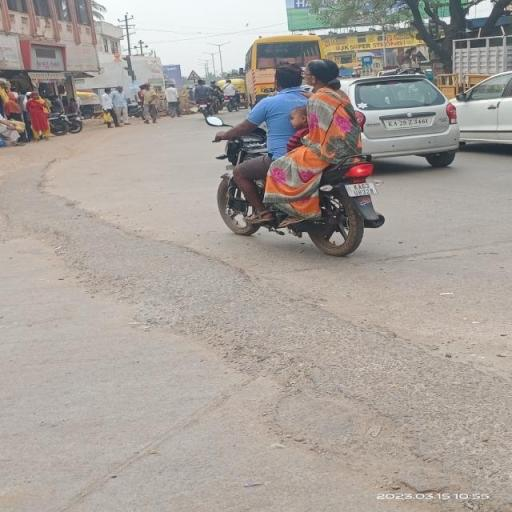bike: (203, 57, 393, 258)
numberplate: (345, 178, 378, 200)
withouthelmet: (306, 60, 338, 88), (275, 64, 300, 90)
